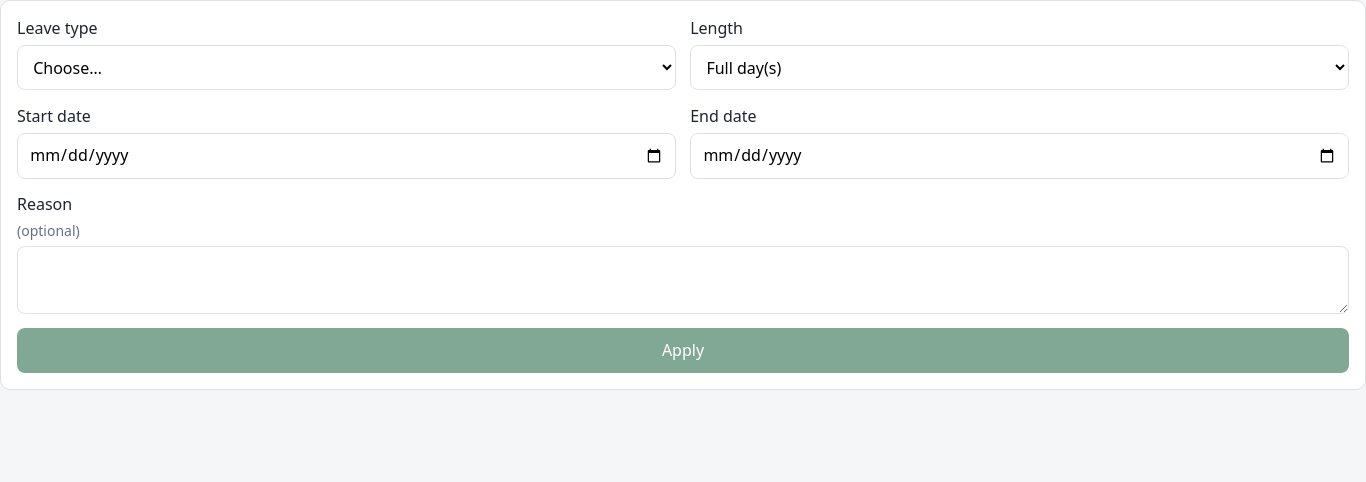
ApplyLeaveForm › shows the server's message when the request is refused
Select "Annual (14 available)" in the dropdown labelled "Leave type". click: (346, 68)
box: [17, 45, 676, 90]
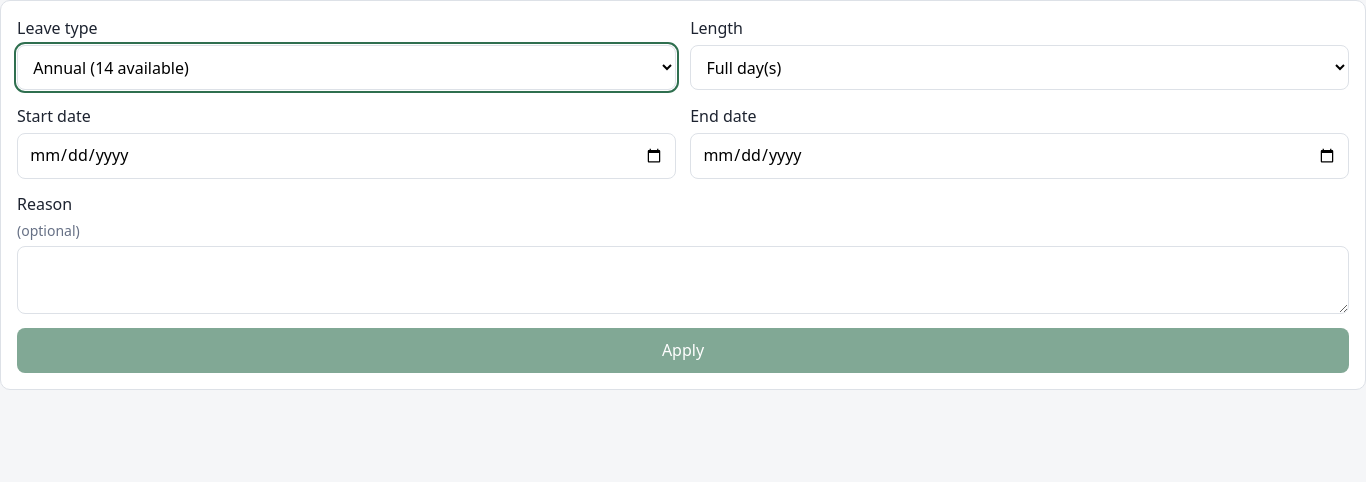
Type "2026-03-09" into the date field labelled "Start date". click: (346, 156)
box: [17, 132, 676, 179]
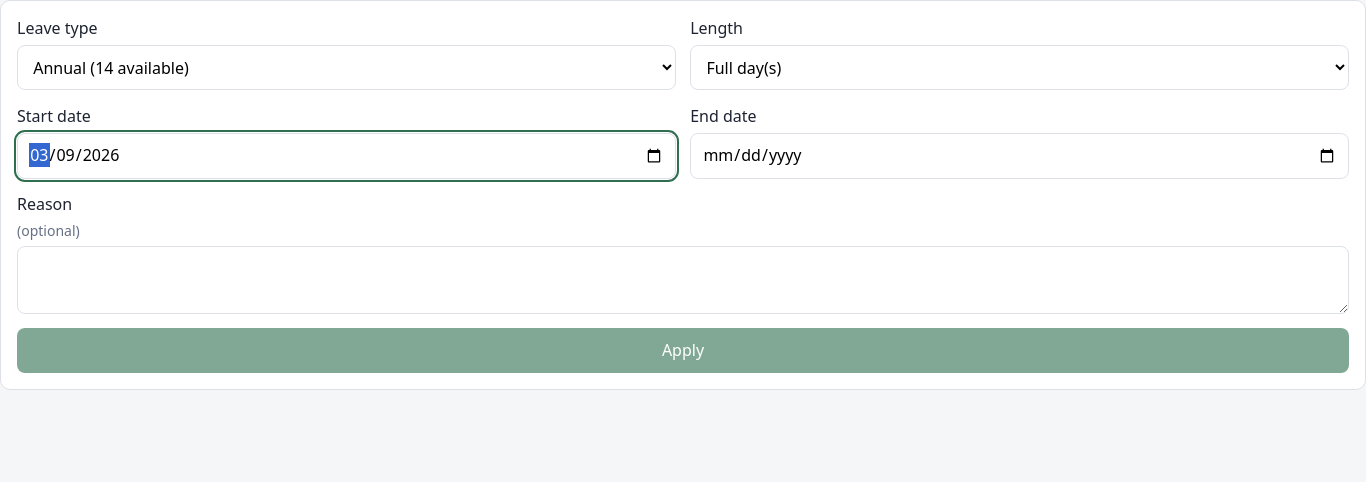
Type "2026-03-13" into the date field labelled "End date". click: (1020, 156)
box: [690, 132, 1349, 179]
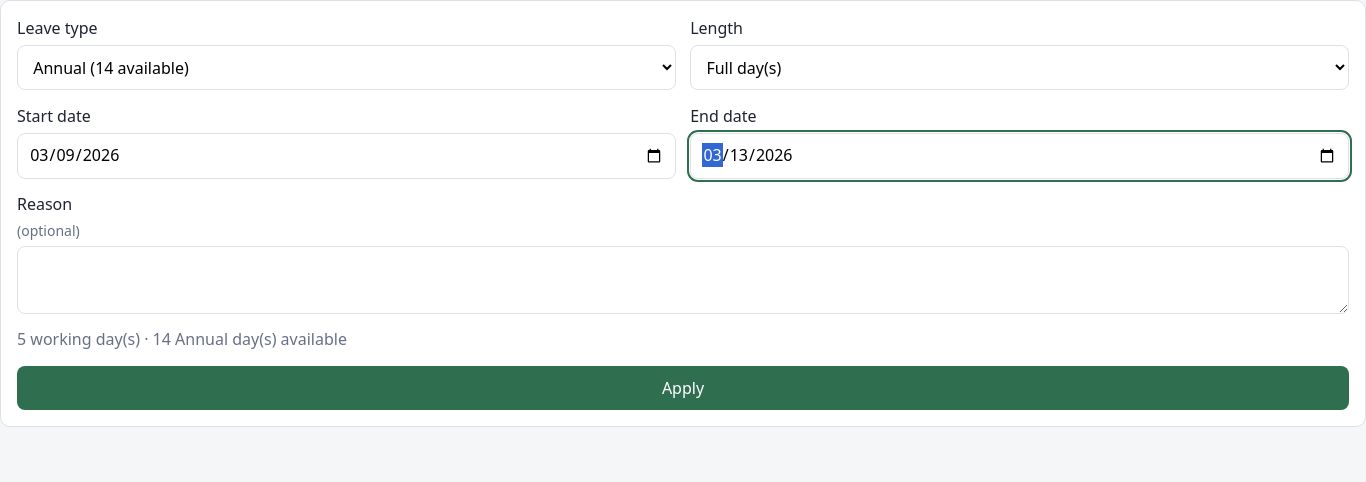
Click the button "Apply". click: (683, 388)
box: [17, 366, 1349, 410]
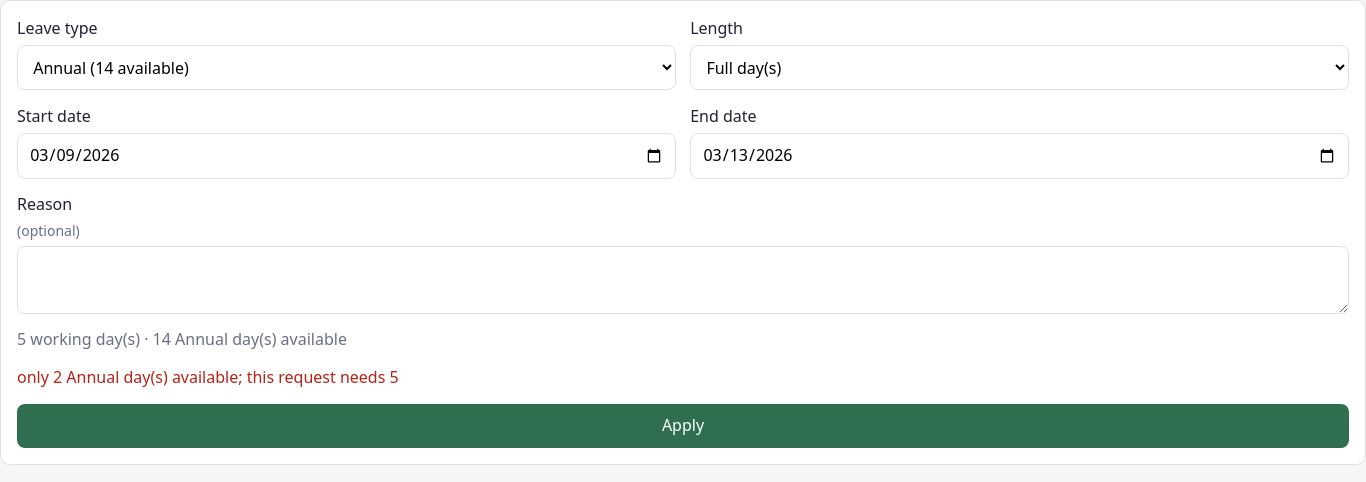
Check: the message shows "only 2 Annual day(s) available", box [17, 366, 399, 388]
